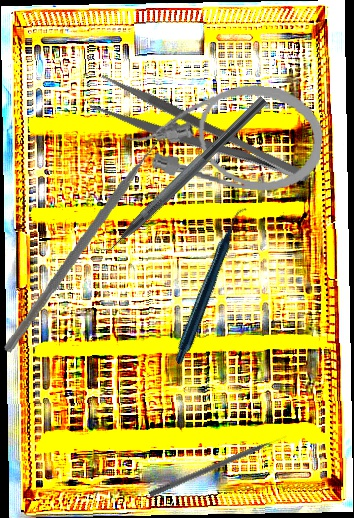Cannula: (121, 70, 328, 198)
Chopper: (3, 125, 182, 364), (84, 84, 269, 269)
Dressing Forceps: (87, 71, 313, 205)
Handpiece: (125, 205, 299, 367)
Pusher: (148, 433, 289, 499)
